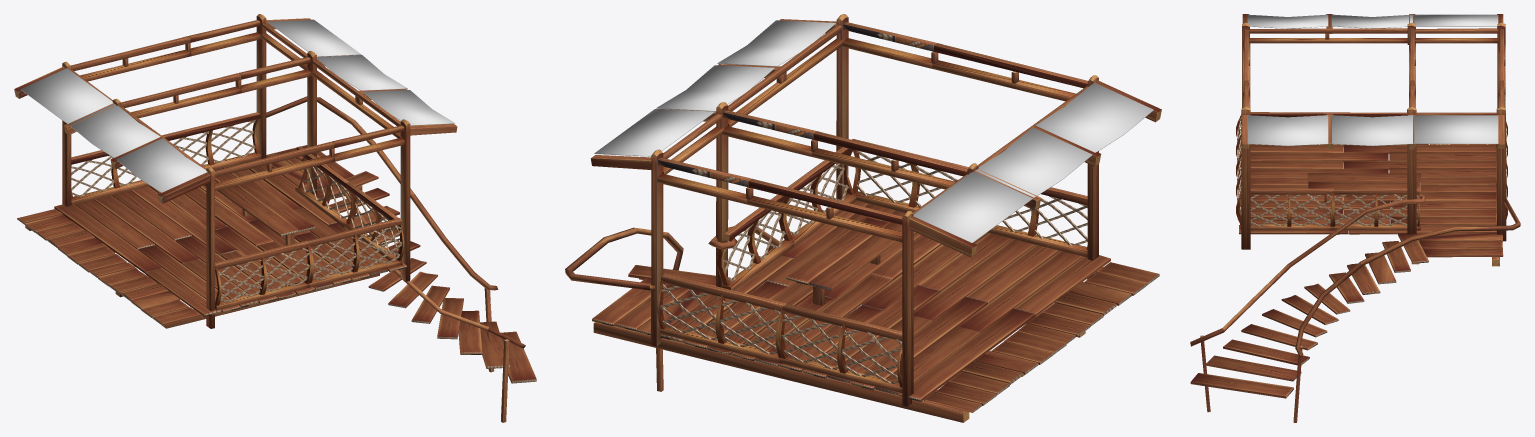
Rendered from Treehouse-2.fbx.
3 renders of one model, left to right at view 1: azimuth 30°, elevation 25°; view 2: azimuth 150°, elevation 25°; view 3: azimuth 270°, elevation 25°, orthographic. The views are drawn at different scales.
Visible parts, largest first — view 1: platform.000; view 2: platform.000; view 3: platform.000.
Part boxes in pixels (<box>): platform.000: <box>14,14,536,422</box>; platform.000: <box>565,14,1161,422</box>; platform.000: <box>1190,14,1520,422</box>.
Size of the model in its own units: 1171 by 900 by 994.
2 materials, 1 textured.
